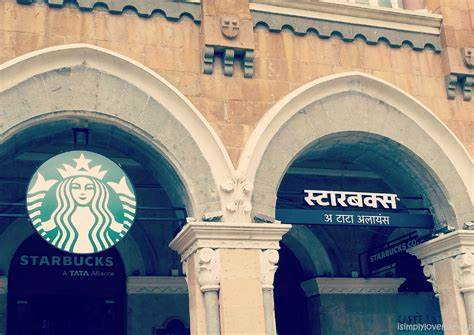starbucks Originale: (22, 144, 141, 258)
